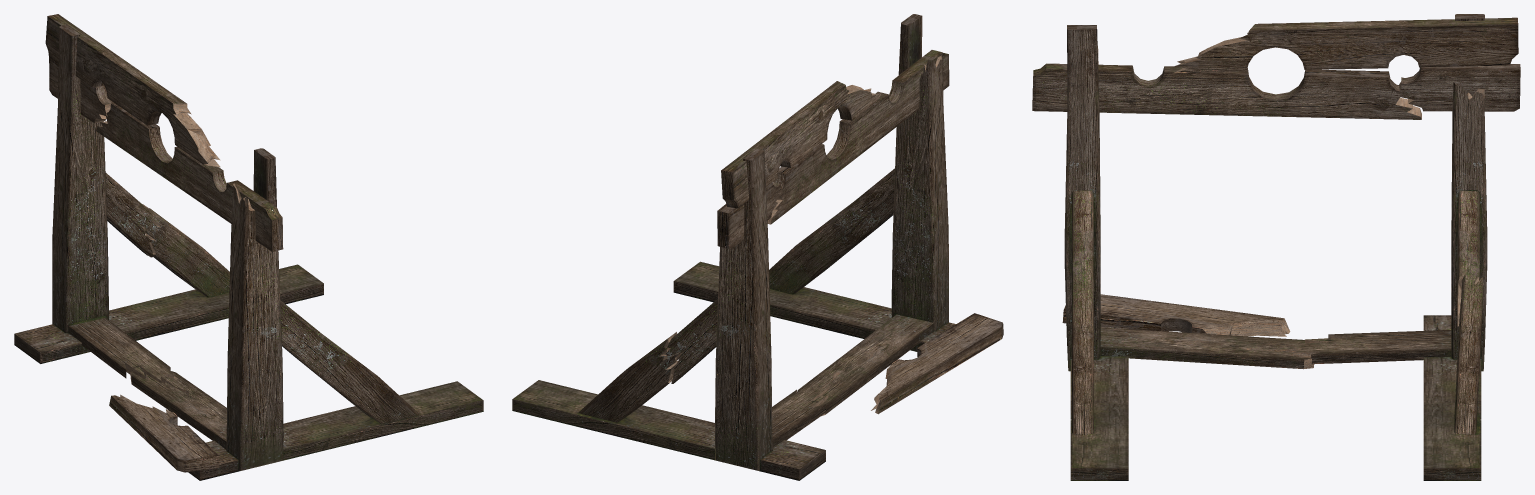
The model's file is CA_Pillory_Destruction_Stage1.fbx.
3 views of the same model, side by side, from view 1: azimuth 30°, elevation 25°; view 2: azimuth 150°, elevation 25°; view 3: azimuth 270°, elevation 25° (orthographic). The views are drawn at different scales.
Visible parts, largest first — view 1: CA_Pillory_Destruction_Stage1; view 2: CA_Pillory_Destruction_Stage1; view 3: CA_Pillory_Destruction_Stage1.
Part boxes in pixels (<box>): CA_Pillory_Destruction_Stage1: <box>14,14,483,480</box>; CA_Pillory_Destruction_Stage1: <box>512,14,1003,480</box>; CA_Pillory_Destruction_Stage1: <box>1032,14,1520,480</box>.
Bounding box in the file's own units: 138 × 134 × 175.
